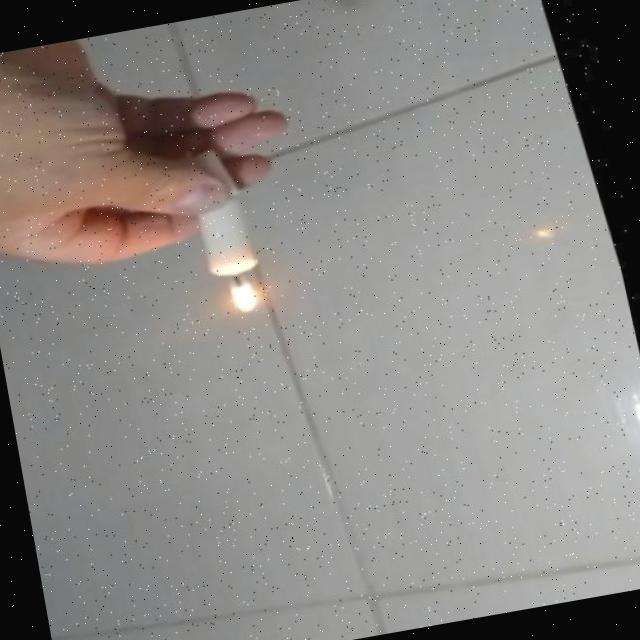fire: (222, 267, 275, 318)
